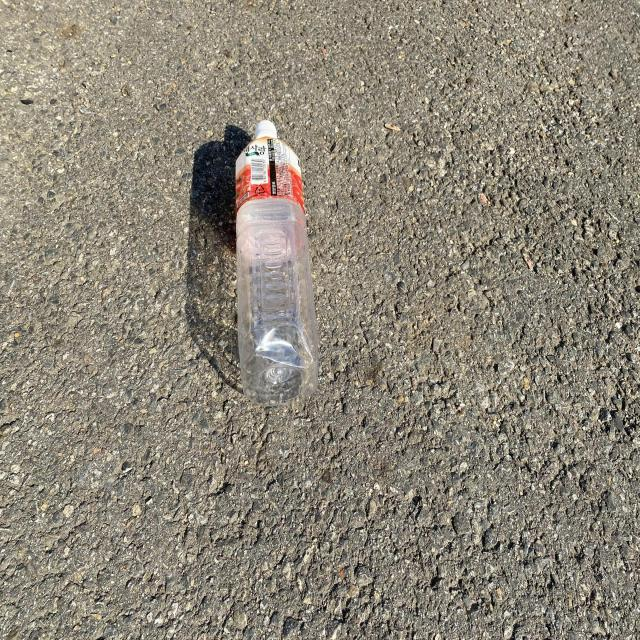plastic: (235, 120, 318, 406)
